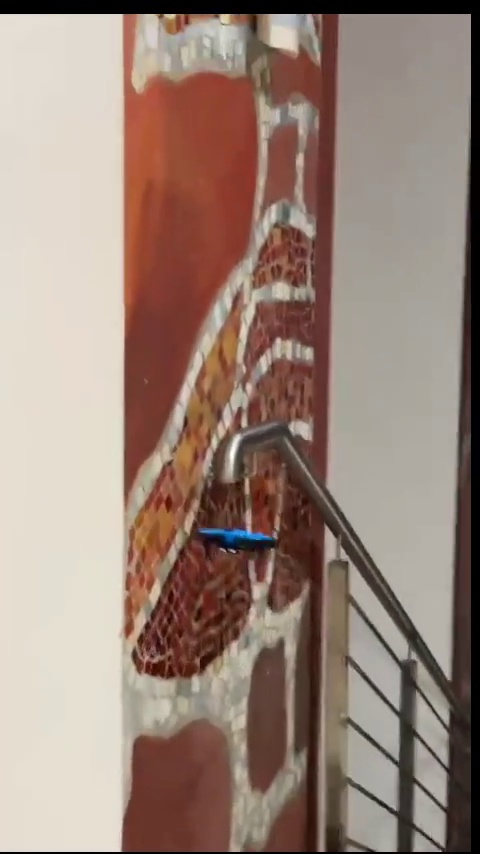drone: (193, 524, 275, 552)
